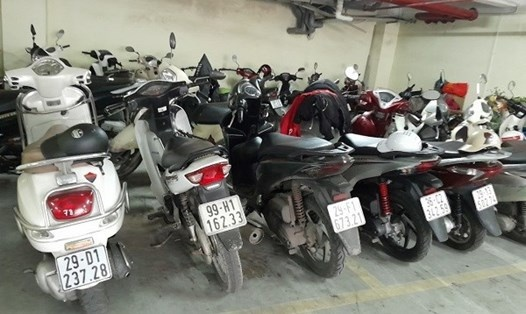Bien-so: (68, 251, 122, 302), (201, 194, 254, 238), (327, 188, 369, 232), (418, 179, 450, 212), (467, 169, 496, 203)
